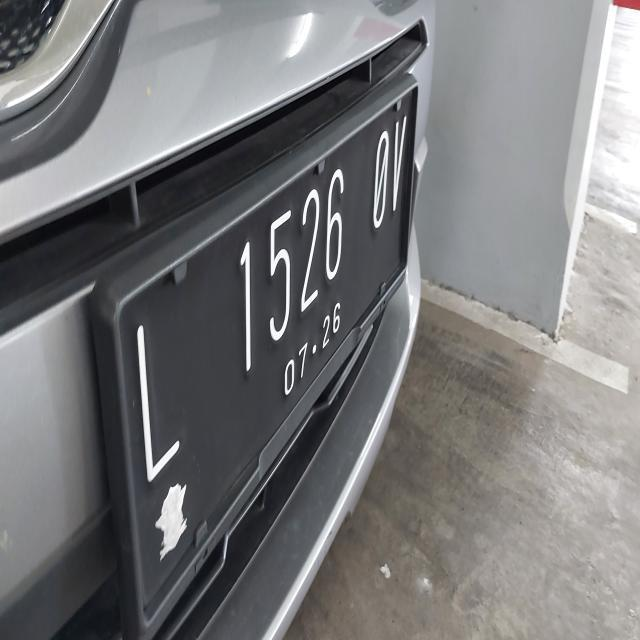1: (220, 231, 272, 392)
2: (289, 183, 323, 310)
5: (252, 206, 298, 345)
6: (318, 152, 356, 308)
L: (116, 303, 195, 491)
O: (363, 118, 392, 252)
V: (382, 101, 407, 222)
